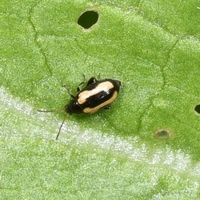insect: (63, 77, 120, 113)
